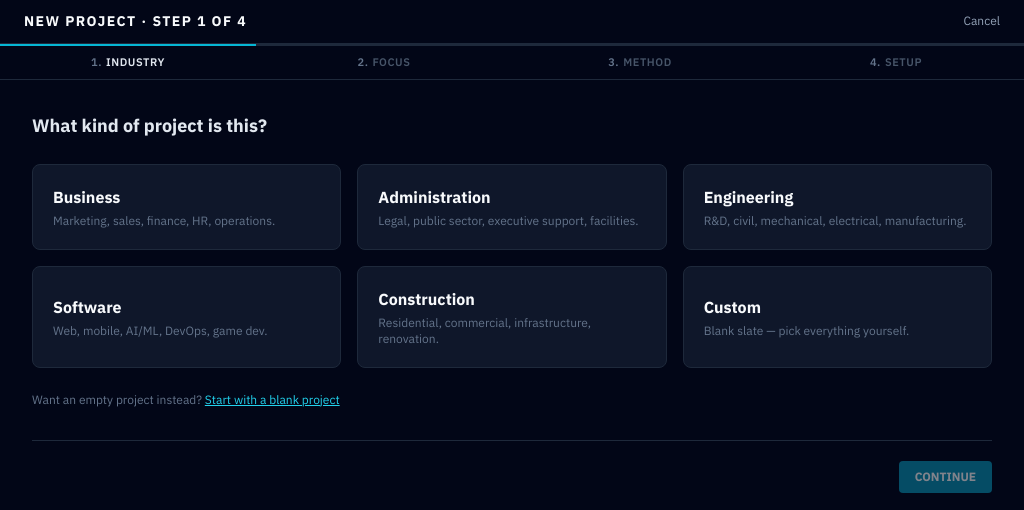
Test: project launchpad › labels progress and requires explicit confirmation before advancing
Expected: the list named "project creation progress" shows "Industry", x1=106 y1=55 x2=165 y2=69
Expected: the list named "project creation progress" shows "Focus", x1=372 y1=55 x2=410 y2=69
What coordinates should you click on to do the following:
click the button "Software Web, mobile, AI/ML, DevOps, game dev."
I would click on:
 (87, 306)
Its box is x1=32 y1=266 x2=341 y2=368.
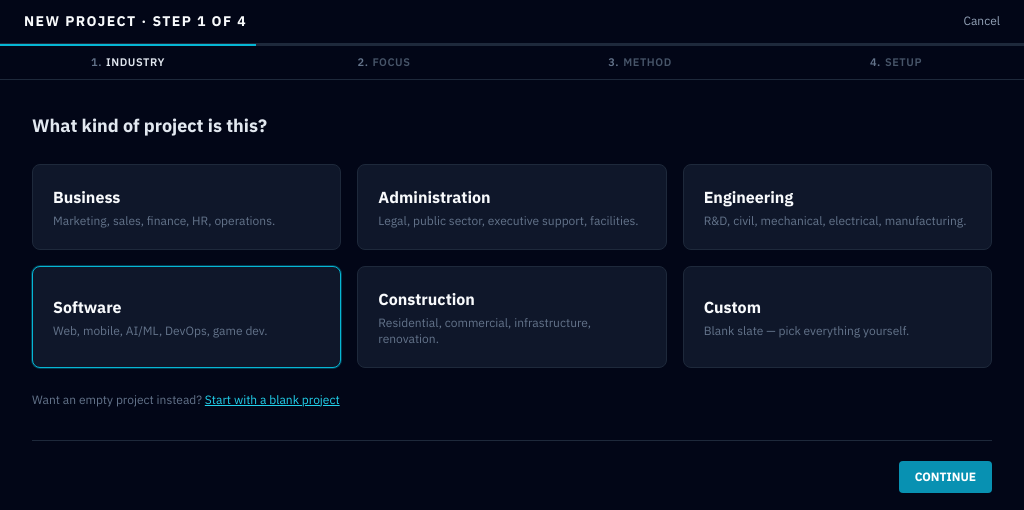
Expected: the heading "What kind of project is this?" is shown, x1=32 y1=114 x2=267 y2=136
What coordinates should you click on to do the following:
click the button "Continue"
I would click on:
 (945, 476)
Its box is x1=899 y1=460 x2=992 y2=492.
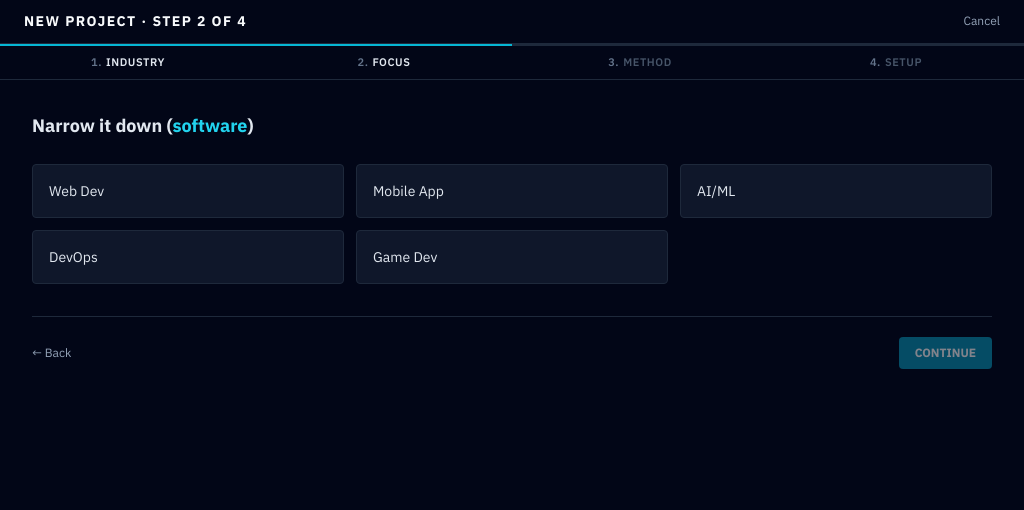
Expected: the heading "Narrow it down (software)" is shown, x1=32 y1=114 x2=254 y2=136
